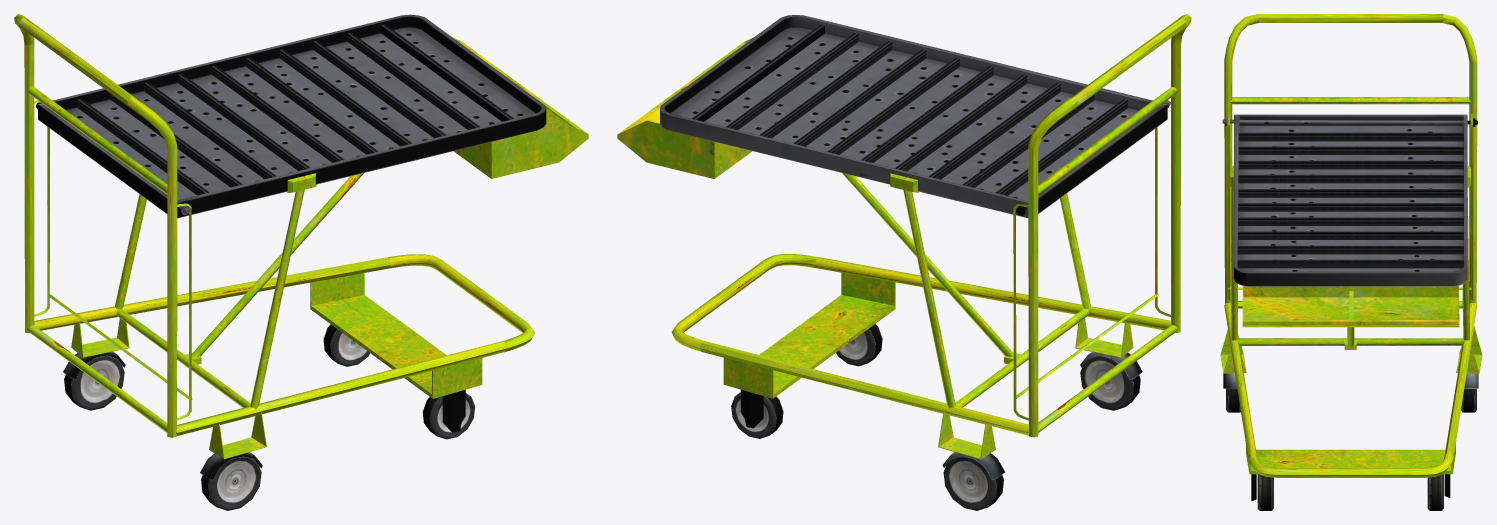
Rendered from trolley.glb.
3 views of the same model, side by side, from view 1: azimuth 30°, elevation 25°; view 2: azimuth 150°, elevation 25°; view 3: azimuth 270°, elevation 25° (orthographic). The views are drawn at different scales.
Visible parts, largest first — view 1: Asset3DLoader.sceneRoot; view 2: Asset3DLoader.sceneRoot; view 3: Asset3DLoader.sceneRoot.
Part boxes in pixels (x1,y1,x2,y2): Asset3DLoader.sceneRoot: (14, 14, 588, 510); Asset3DLoader.sceneRoot: (617, 14, 1191, 510); Asset3DLoader.sceneRoot: (1220, 14, 1482, 510).
Bounding box in the file's own units: 65.47 × 58.18 × 38.33.
Materials: 2 (2 with a texture image).
